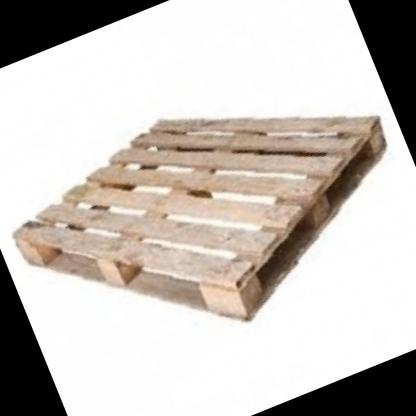BoxFace: (10, 111, 390, 327)
